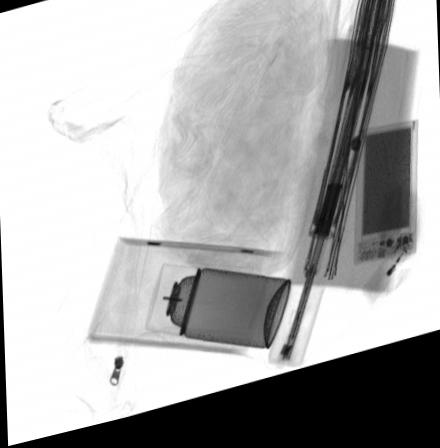Lighter: (362, 252, 415, 320)
Powerbank: (353, 139, 418, 281)
Sprayer: (146, 270, 290, 360)
